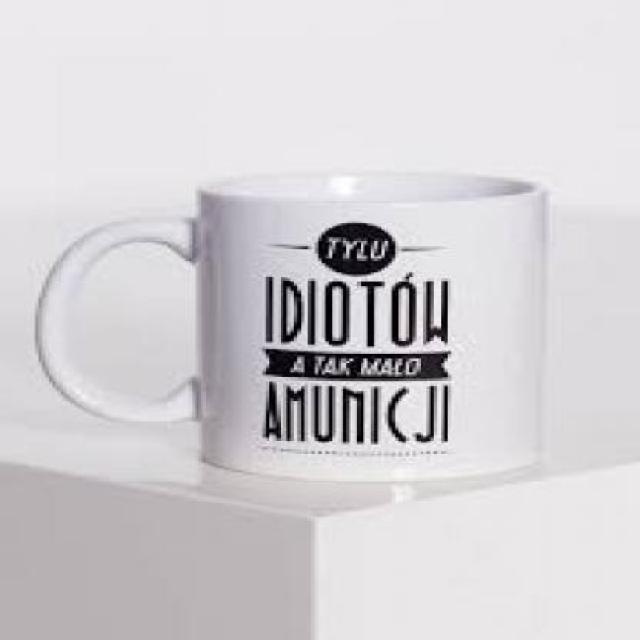cup: (28, 168, 559, 477)
